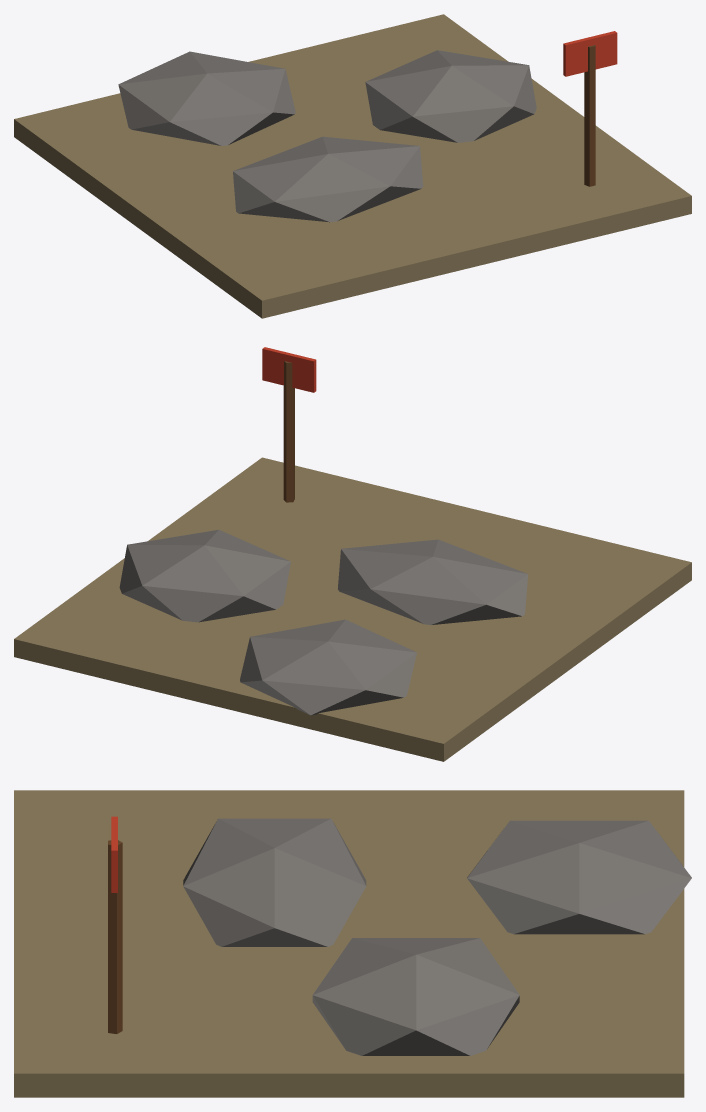
File: Deposit_Titanium_Depleted.fbx
3 renders of one model, top to bottom at view 1: azimuth 30°, elevation 25°; view 2: azimuth 150°, elevation 25°; view 3: azimuth 270°, elevation 25°, orthographic. The views are drawn at different scales.
Parts seen in each view (by area): view 1: Deposit_Titanium_Depleted_Body; view 2: Deposit_Titanium_Depleted_Body; view 3: Deposit_Titanium_Depleted_Body.
Part boxes in pixels (x1,y1,x2,y2): Deposit_Titanium_Depleted_Body: (14, 14, 691, 318); Deposit_Titanium_Depleted_Body: (14, 347, 691, 761); Deposit_Titanium_Depleted_Body: (14, 790, 691, 1097).
Size of the model in its own units: 1 by 0.3754 by 1.01.
